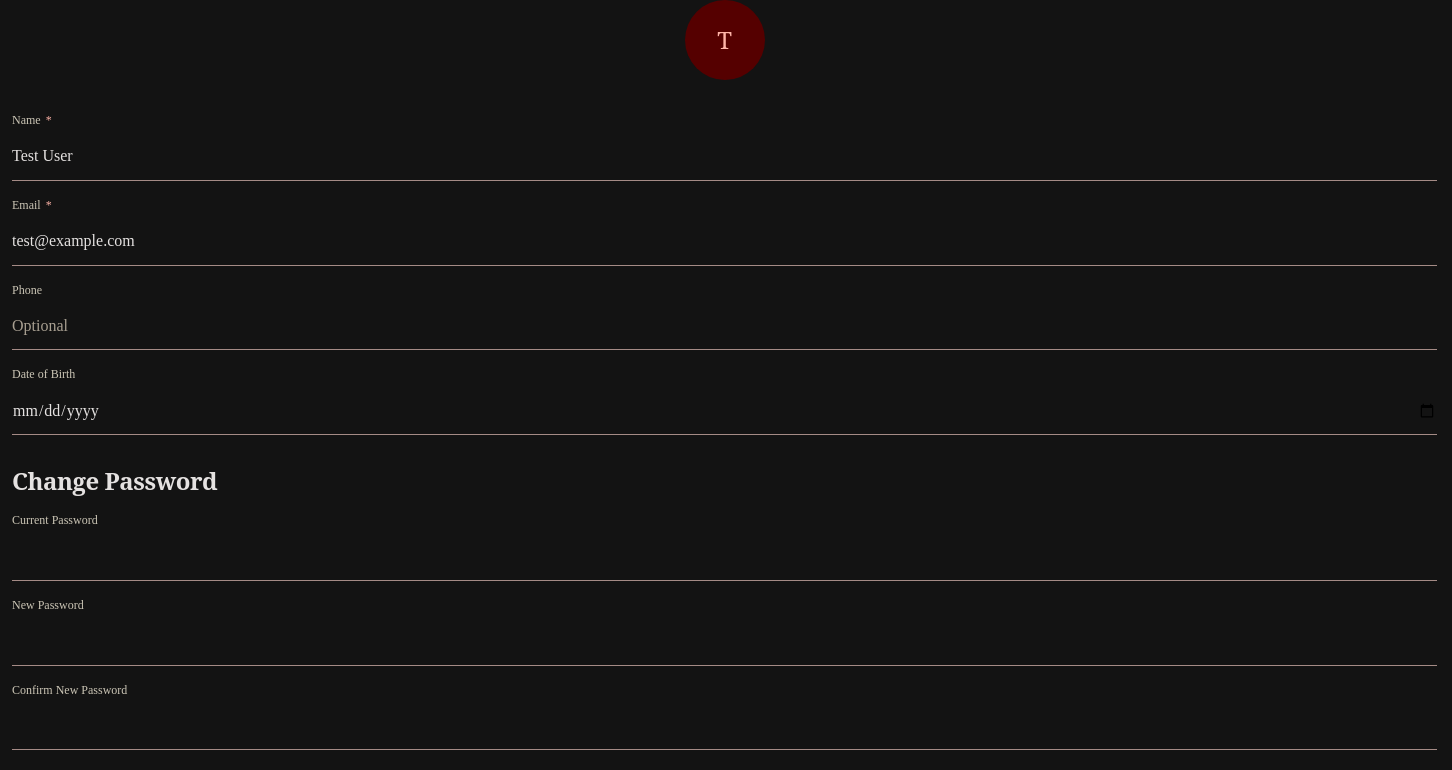
it: ProfileForm › shows error when new password entered without current password
# currentPassword, newPassword, confirmPassword
Type "newpass123" into the password field labelled "New Password" at (724, 642), box [12,618,1437,666]
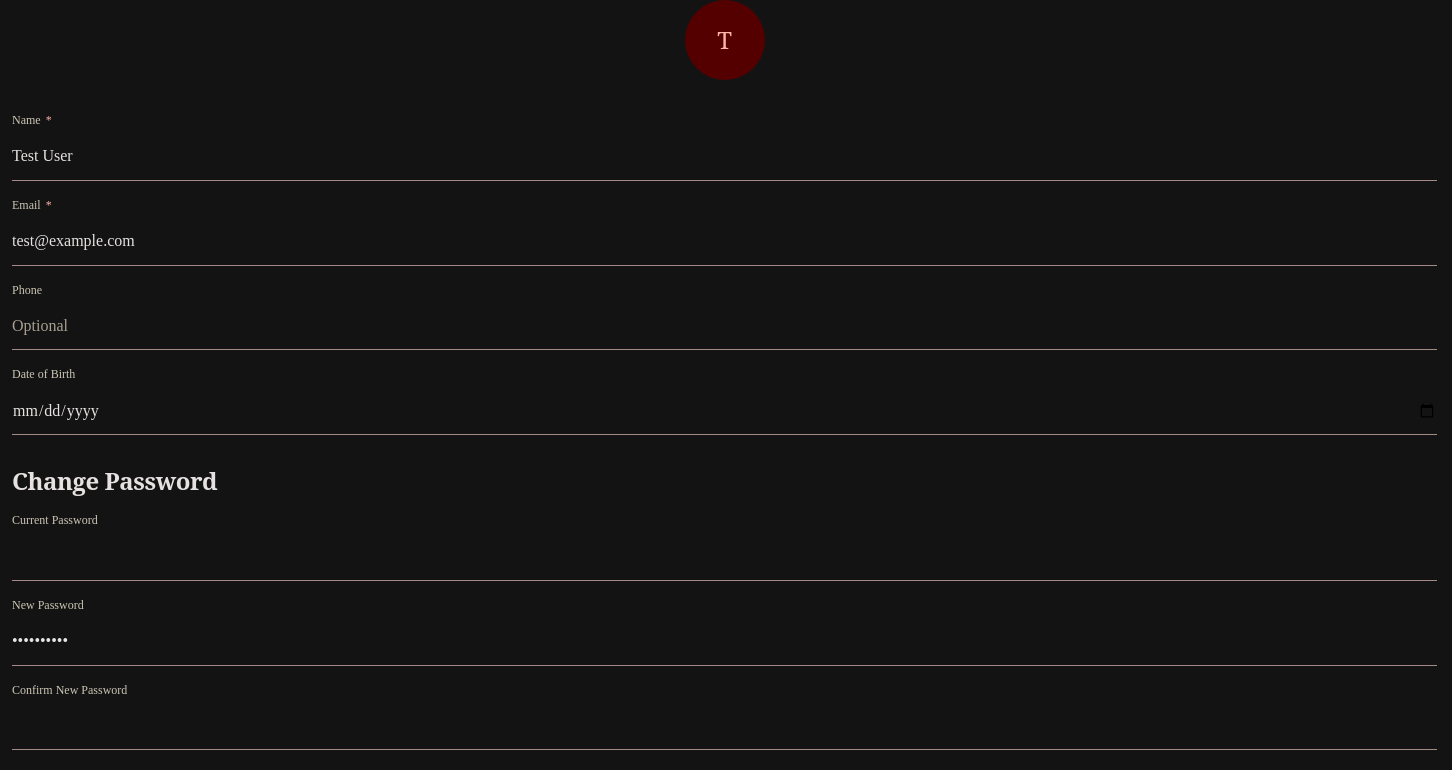
Type "newpass123" into the password field labelled "Confirm New Password" at (724, 726), box [12,702,1437,750]
(page scrolled)
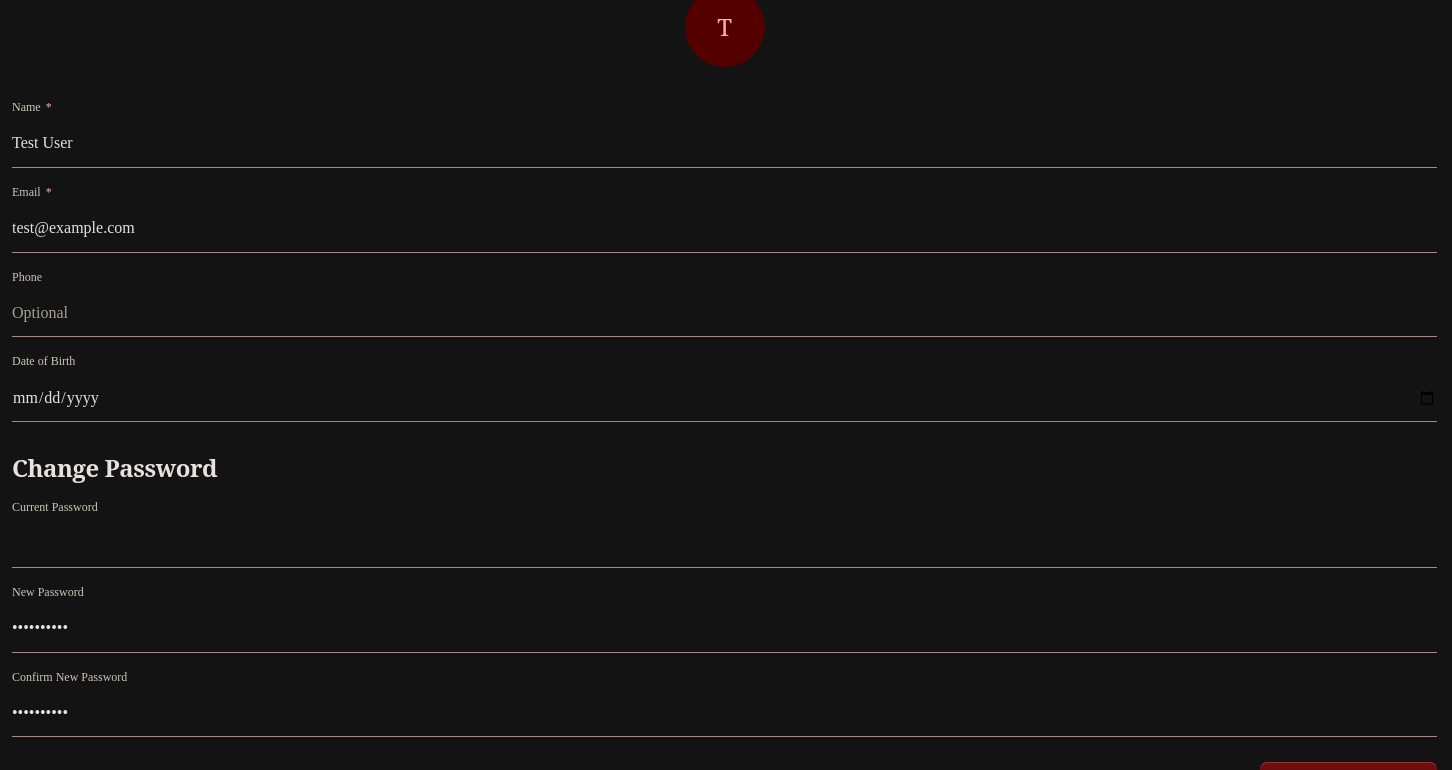
Submit the form
(page scrolled)
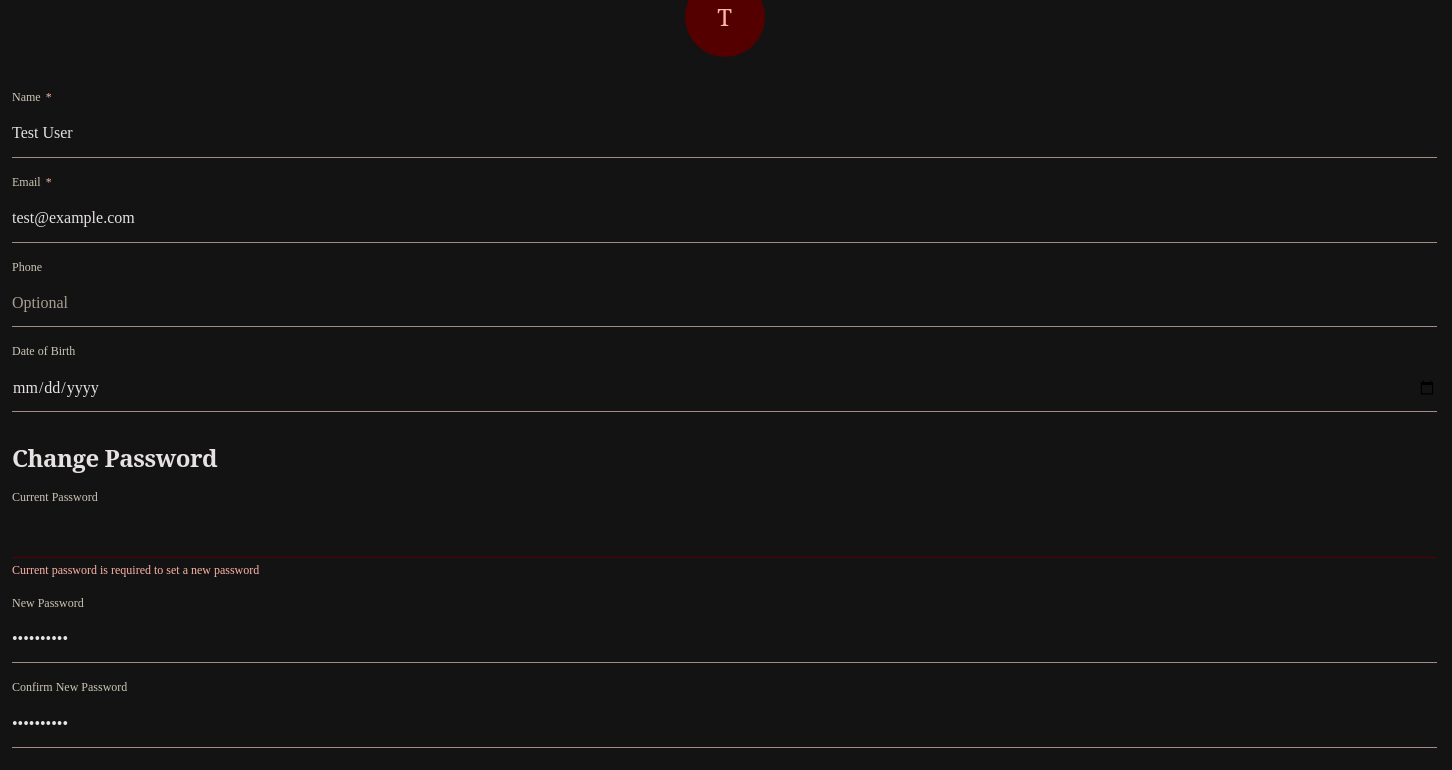
expect the form shows "Current password is required": met, box [12,563,259,577]
